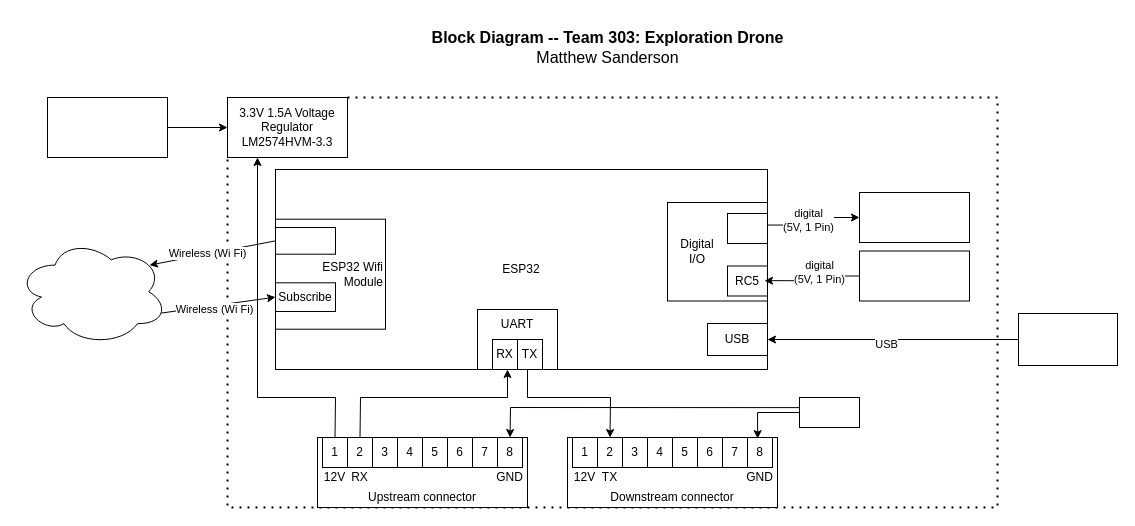
Some shapes in this 1135 by 526 pixel diagram are drawn without their labels. Each missing label, with the centre of its shape:
Ground: (x=829, y=412)
MQTT Server Wireless (Wi Fi): (x=92, y=291)
PC - Thonny: (x=1068, y=339)
Publish: (x=305, y=240)
RC4: (x=747, y=228)
Red LED: (x=914, y=217)
Switch: (x=914, y=275)
Wall Power Supply 9V to Barrel Jack Port: (x=107, y=127)
